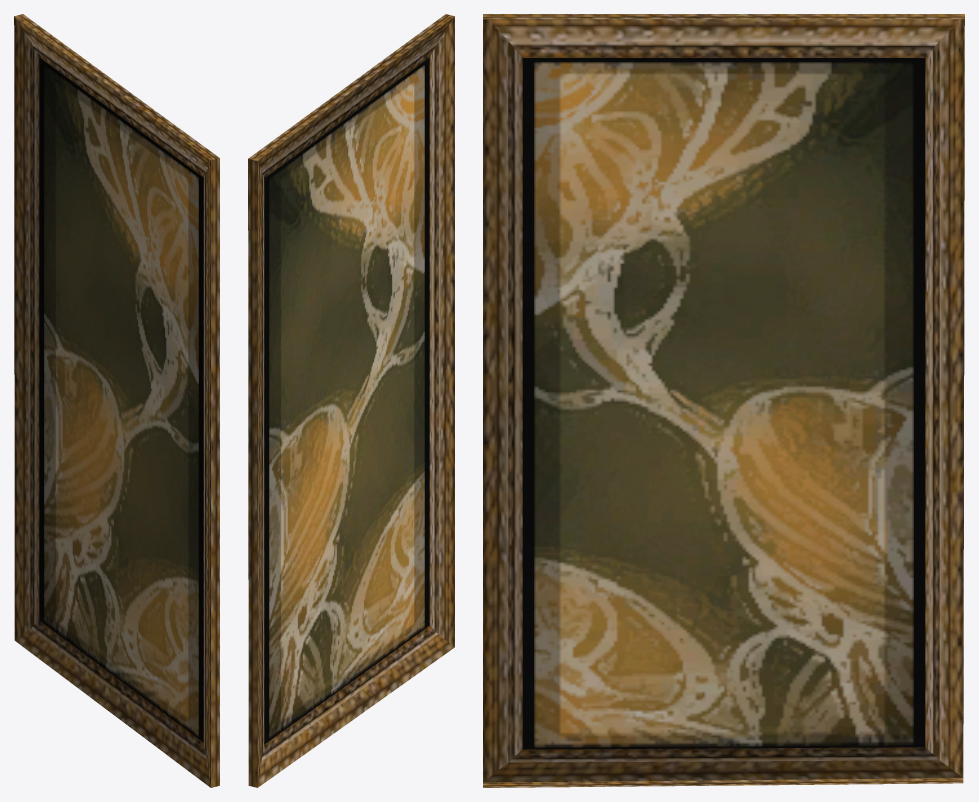
Rendered from frn_all_painting_golden_flower_s02.fbx.
The picture shows the model from 3 angles, left to right: view 1: azimuth 30°, elevation 25°; view 2: azimuth 150°, elevation 25°; view 3: azimuth 270°, elevation 25°; orthographic projection. The views are drawn at different scales.
Parts seen in each view (by area): view 1: mesh_node; view 2: mesh_node; view 3: mesh_node.
Boxes of the visible parts, x1,y1,x2,y2 form: mesh_node: (14, 14, 219, 787); mesh_node: (248, 14, 454, 787); mesh_node: (483, 14, 964, 787).
Size of the model in its own units: 0.0364 by 2.44 by 1.38.
